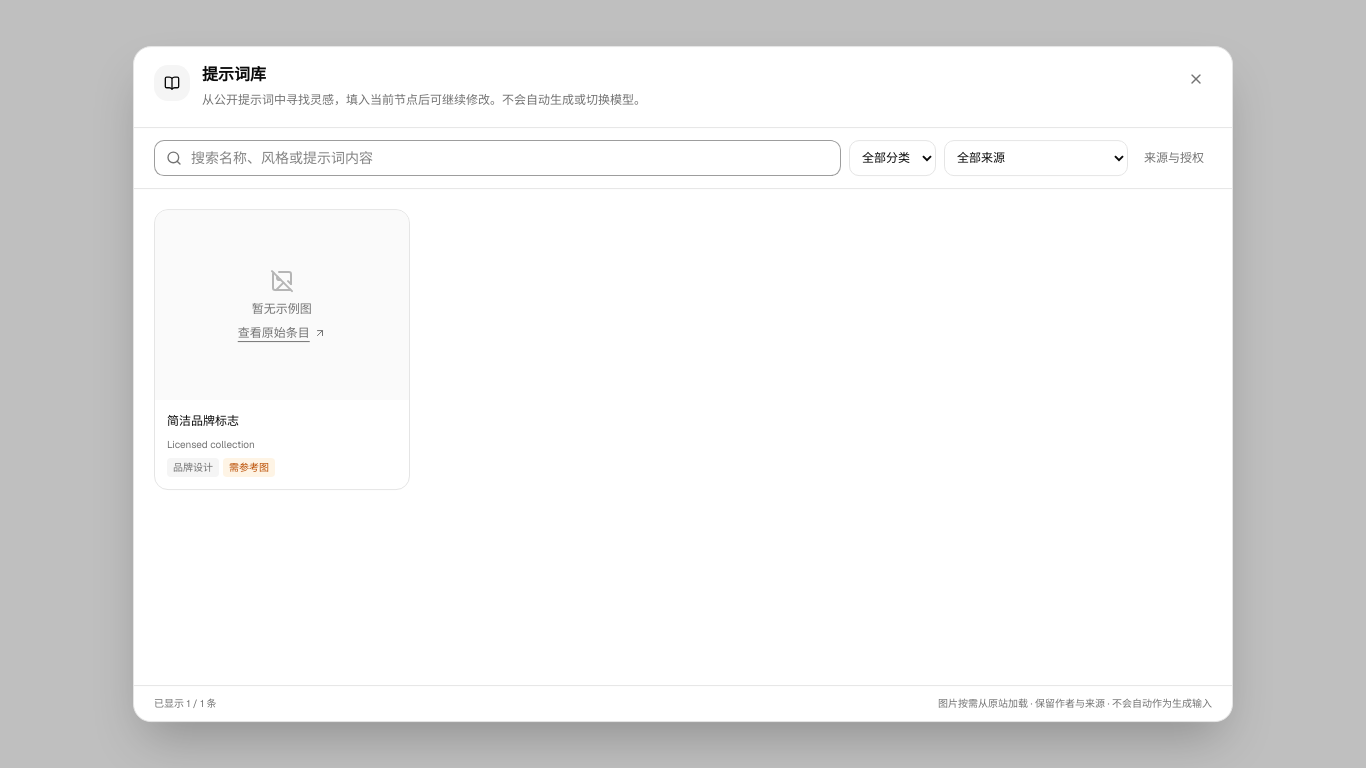
Test case: prompt library dialog › informs reference-image requirements without silently adding a reference
This screenshot has width=1366, height=768.
Click the button "简洁品牌标志 Licensed collection 品牌设计 需参考图" at (282, 444), box [155,400,408,489]
(page scrolled)
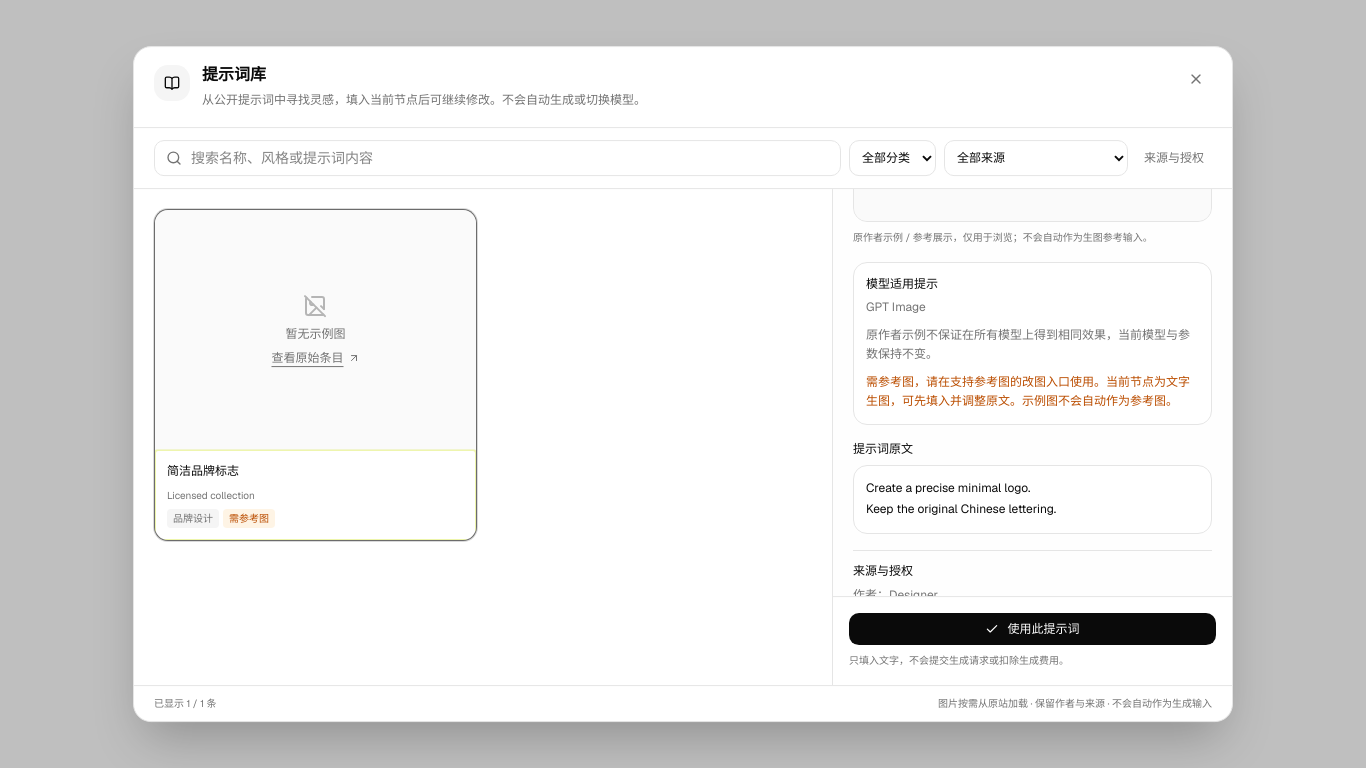
Now the text "需参考图，请在支持参考图的改图入口使用。当前节点为文字生图，可先填入并调整原文。示例图不会自动作为参考图。" is shown, box [866,373,1199,412]
